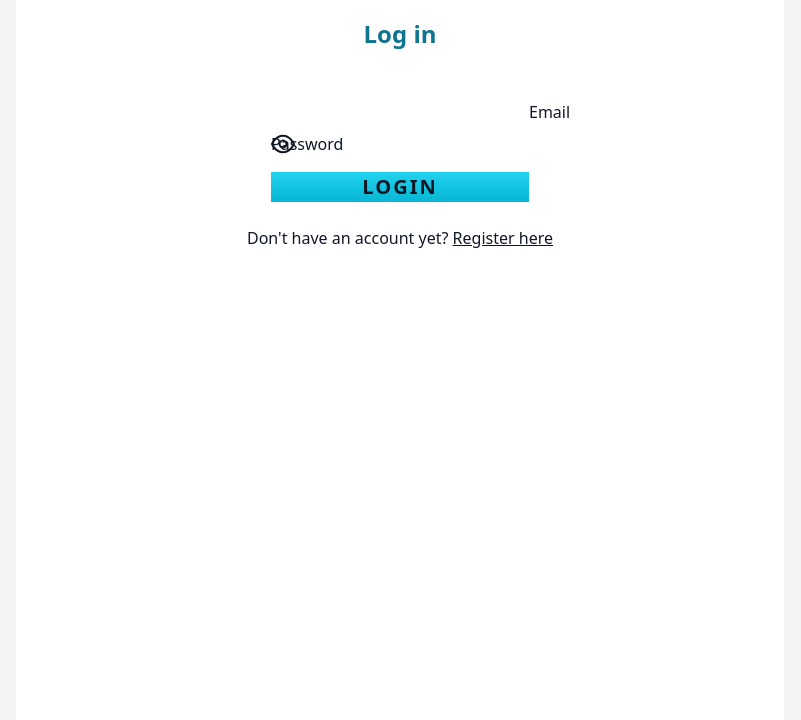
Req 1.1 - registration › Req 1.1.4 (+ 1.1.5) - A user cannot submit form if any of the fields are empty › email is empty
The width and height of the screenshot is (801, 720).
Click the link "Register here": (503, 238) [453, 227, 553, 249]
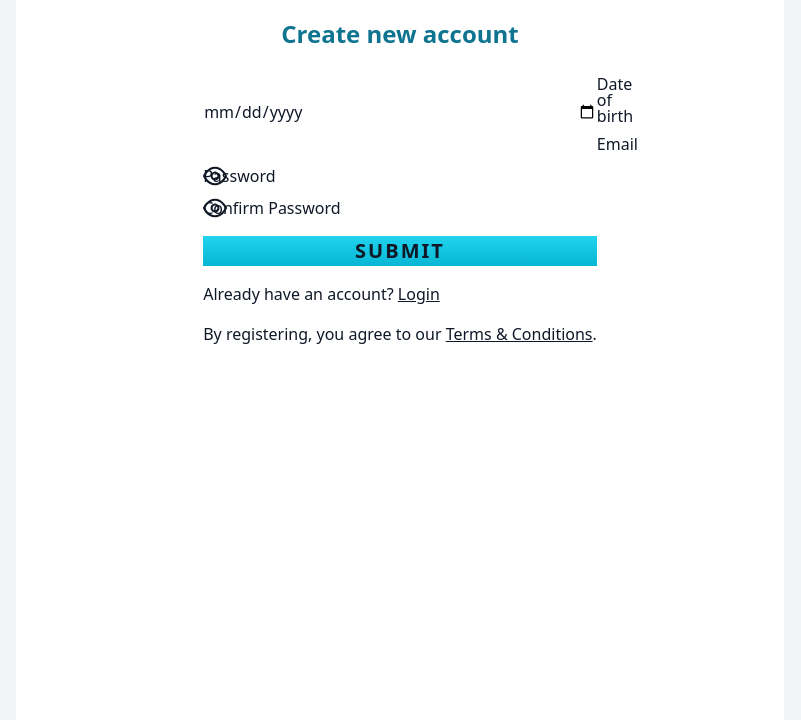
Submit the form, box [179, 76, 621, 370]
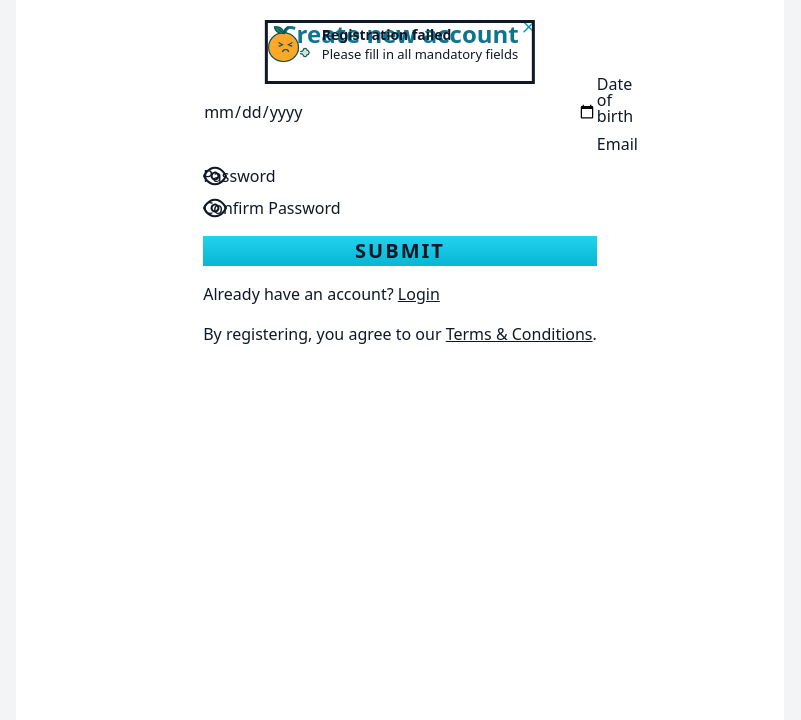
Expected: the text "Registration failed" is shown, [322, 25, 452, 44]
